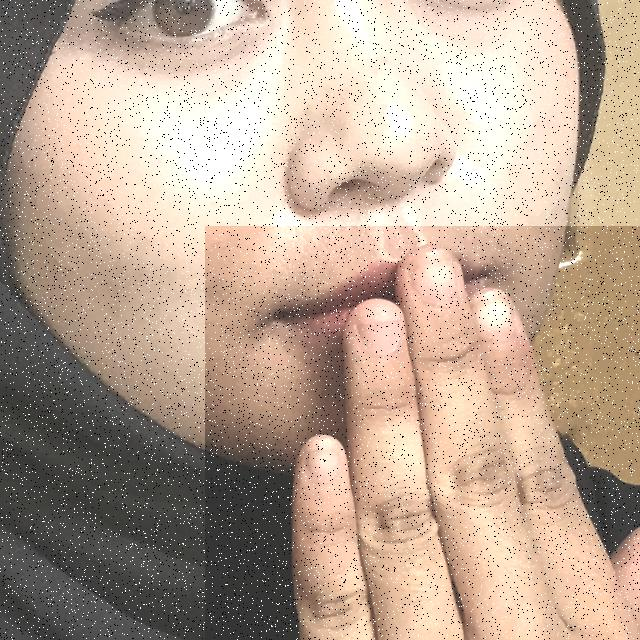ganteng: (205, 226, 640, 640)
